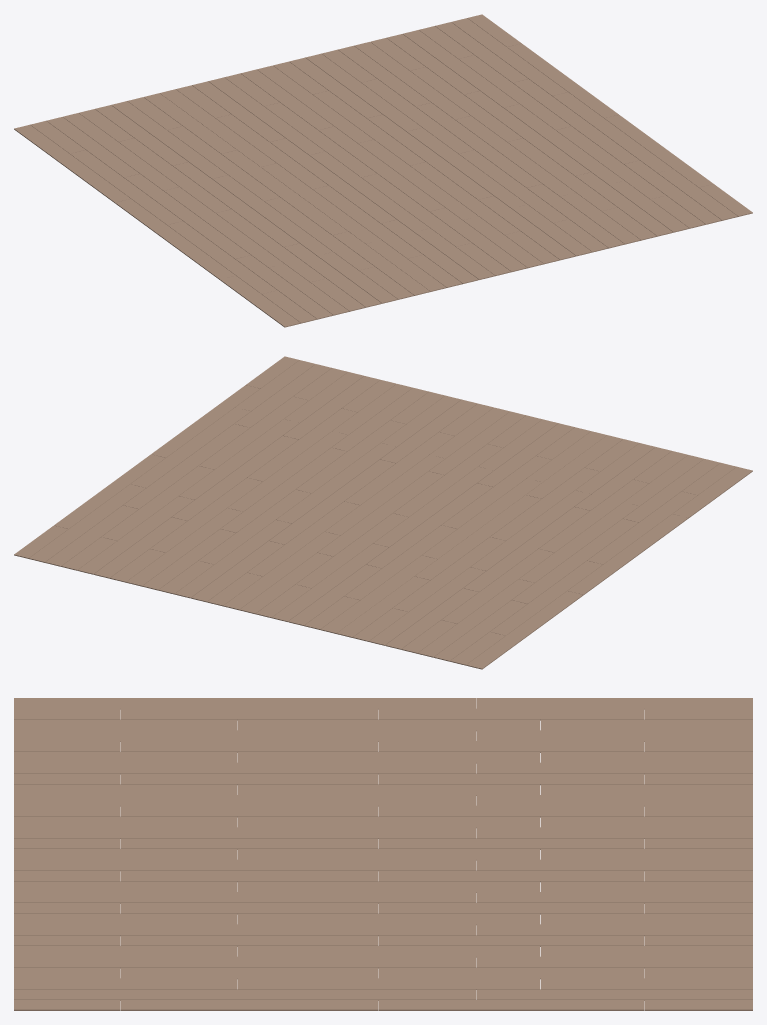
File: Parquet_1.fbx
3 views of the same model, one above another, from view 1: azimuth 30°, elevation 25°; view 2: azimuth 150°, elevation 25°; view 3: azimuth 270°, elevation 25° (orthographic). The views are drawn at different scales.
Visible parts, largest first — view 1: Parquet_1; view 2: Parquet_1; view 3: Parquet_1.
Part boxes in pixels (x1,y1,x2,y2): Parquet_1: (14,14,752,327); Parquet_1: (14,356,752,669); Parquet_1: (14,698,752,1010).
Bounding box in the file's own units: 486 × 487 × 0.8159.
